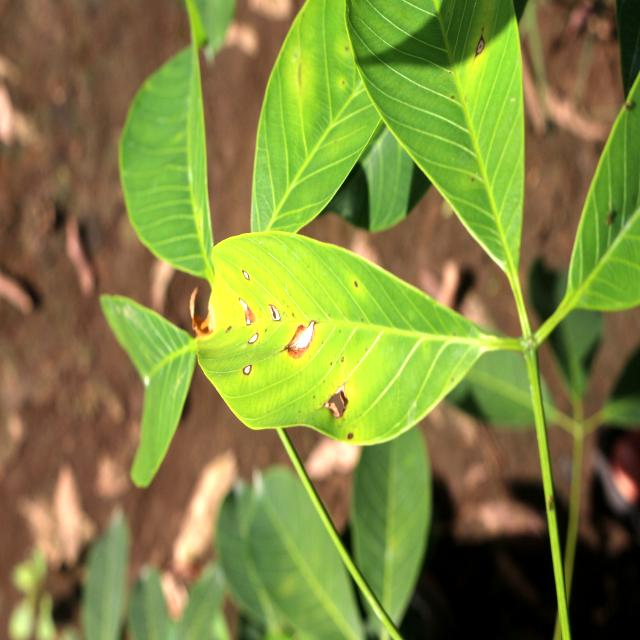Colletotrichum: (268, 304, 280, 321), (248, 332, 259, 344), (243, 365, 252, 375), (242, 270, 250, 281), (246, 318, 251, 326)
Leaf-Blight: (284, 320, 314, 358)
